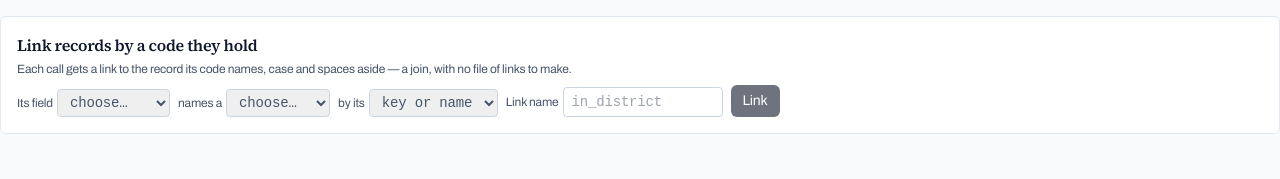
Scenario: links records to the record their code names, and says which were not (benchmark re-test, October 2026)
Select "dist_code" in the dropdown named "Its field, holding the code" at (114, 103), box [57,89,170,117]
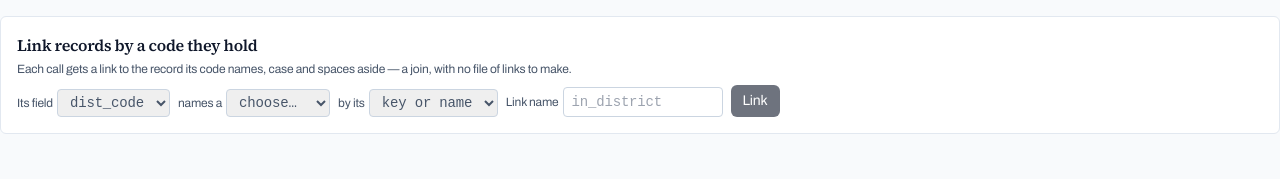
Select "district" in the dropdown named "names a kind" at (278, 103), box [226,89,330,117]
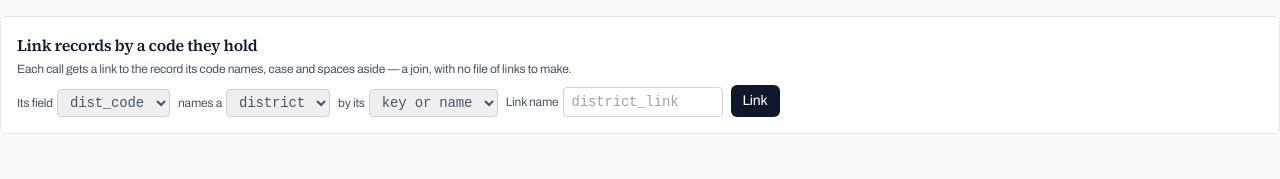
Select "code" in the dropdown named "by its key or field" at (433, 103), box [369,89,498,117]
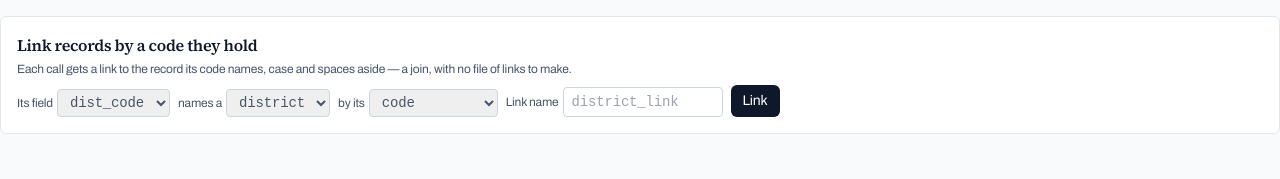
Click the button "Link" at (755, 101), box [730,85,780,117]
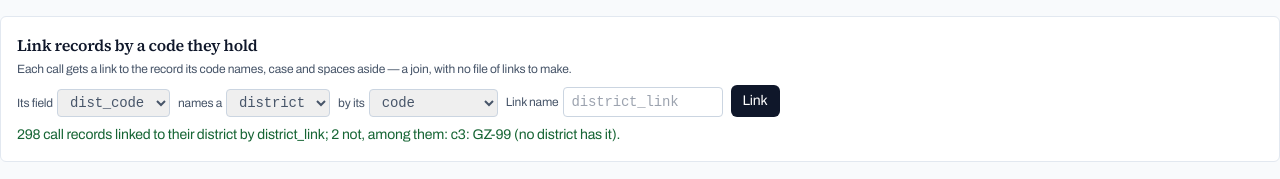
Expected: the text "298 call records linked to their district by district_link; 2 not, among them: c3: GZ-99 (no district has it)" is shown, [17,127,620,142]
